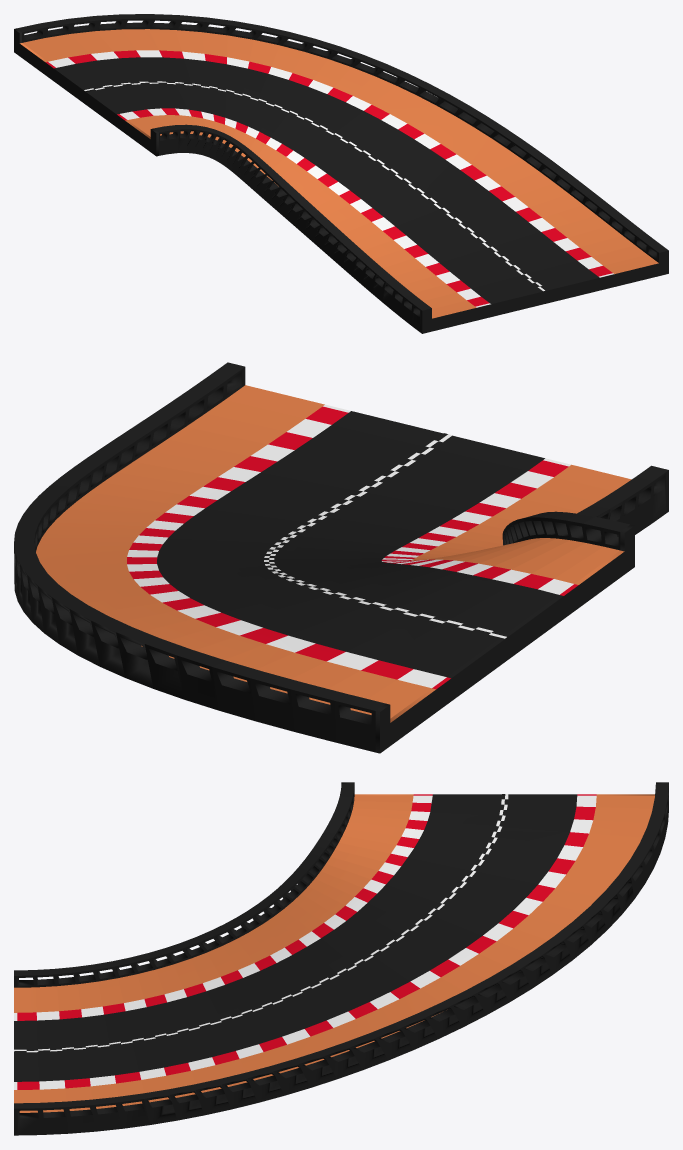
File: ModularTrackRampCurveLeft-Deux.fbx
The picture shows the model from 3 angles, top to bottom: view 1: azimuth 30°, elevation 25°; view 2: azimuth 150°, elevation 25°; view 3: azimuth 270°, elevation 25°; orthographic projection. The views are drawn at different scales.
Parts seen in each view (by area): view 1: ModularTrackRampCurveLeft, LaneDivider; view 2: ModularTrackRampCurveLeft, LaneDivider; view 3: ModularTrackRampCurveLeft, LaneDivider.
Part boxes in pixels (x1,y1,x2,y2): ModularTrackRampCurveLeft: (14, 14, 668, 333); LaneDivider: (84, 81, 547, 291); ModularTrackRampCurveLeft: (14, 362, 668, 753); LaneDivider: (264, 433, 509, 638); ModularTrackRampCurveLeft: (14, 782, 668, 1135); LaneDivider: (14, 794, 508, 1052).
Size of the model in its own units: 1500 by 490 by 2000.
